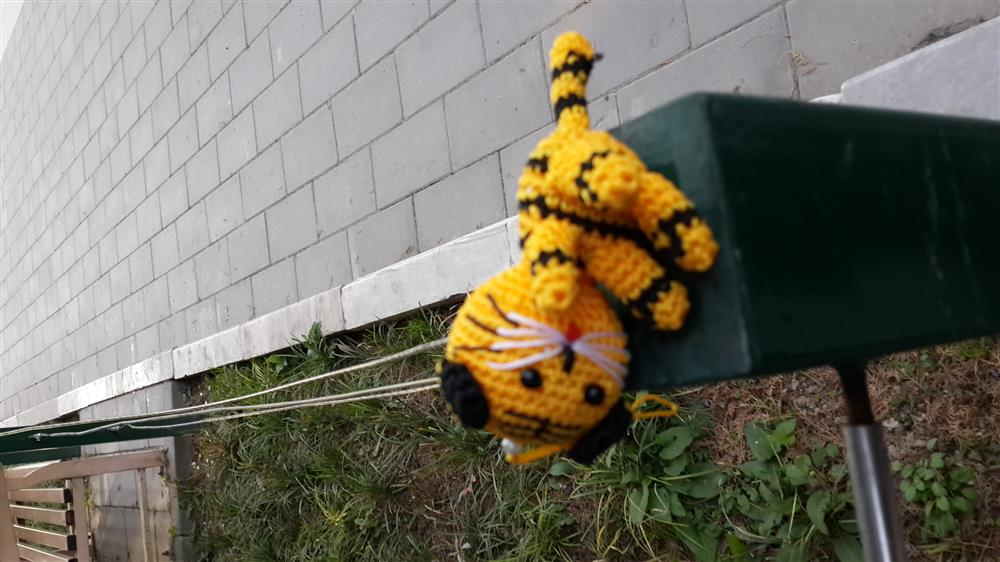toy_tiger: (435, 32, 719, 467)
